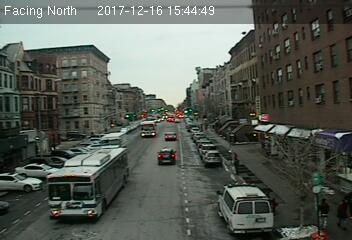bus: (45, 145, 129, 226)
car: (157, 147, 177, 165), (204, 151, 220, 165), (165, 131, 176, 139)
police: (215, 180, 273, 234)
